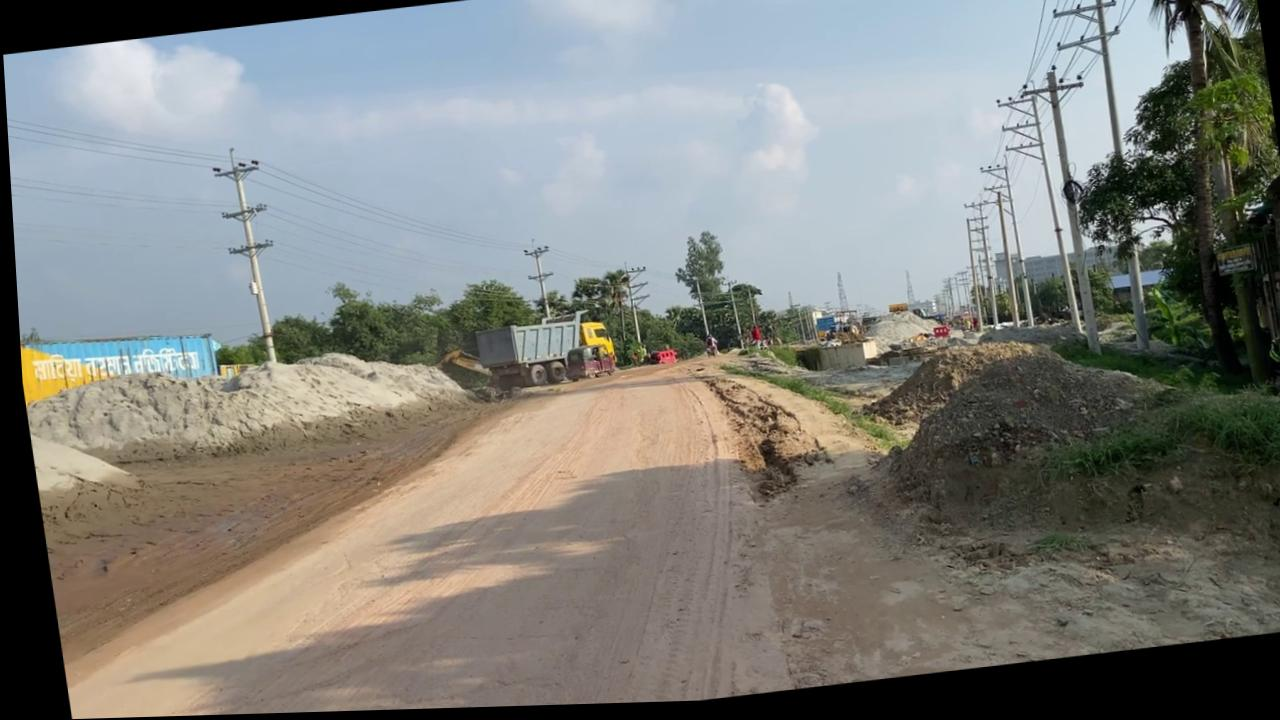Garbage: (857, 283, 1280, 603)
Obstacle: (466, 311, 613, 396), (787, 340, 873, 379)
Pole: (1044, 0, 1164, 364), (207, 145, 285, 367), (1042, 73, 1097, 364)
Rickshaw: (663, 343, 945, 698)
Traffic-sign: (665, 232, 730, 349)
Tree: (535, 309, 612, 383), (802, 274, 861, 352), (427, 347, 486, 395), (573, 321, 612, 378), (807, 313, 860, 352), (626, 342, 675, 371)
